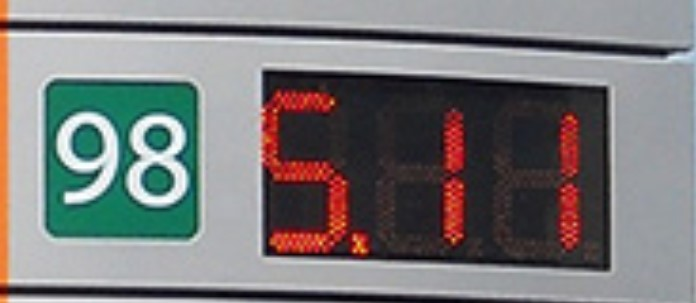digits: (259, 81, 371, 260), (498, 93, 593, 261), (408, 90, 483, 250)
